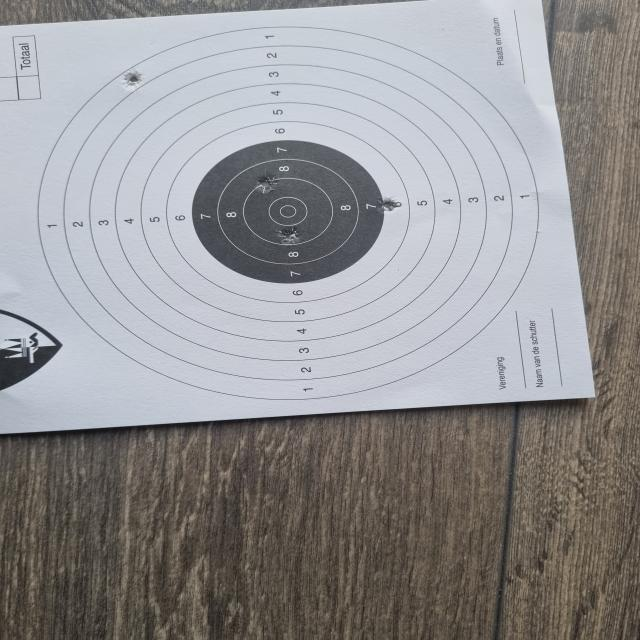1: (122, 70, 144, 89)
7: (378, 197, 397, 212)
9: (254, 175, 277, 193), (276, 227, 300, 244)
Target: (39, 27, 538, 400)
black_contour: (192, 140, 383, 284)
